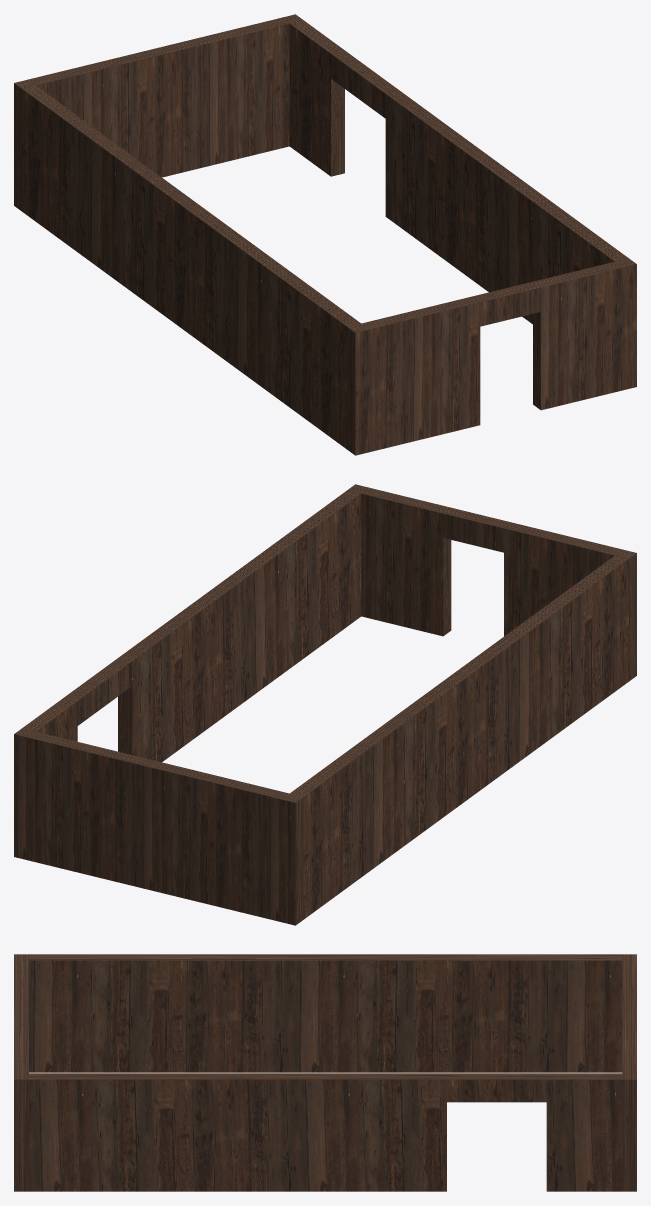
Rendered from RetiroParedes.obj.
3 renders of one model, top to bottom at view 1: azimuth 30°, elevation 25°; view 2: azimuth 150°, elevation 25°; view 3: azimuth 270°, elevation 25°, orthographic. The views are drawn at different scales.
Parts seen in each view (by area): view 1: RetiroPared; view 2: RetiroPared; view 3: RetiroPared.
Part boxes in pixels (<box>): RetiroPared: <box>14,14,636,455</box>; RetiroPared: <box>14,484,636,925</box>; RetiroPared: <box>14,954,636,1191</box>.
Size of the model in its own units: 6 by 2.5 by 12.6.
Materials: 1 (1 with a texture image).
